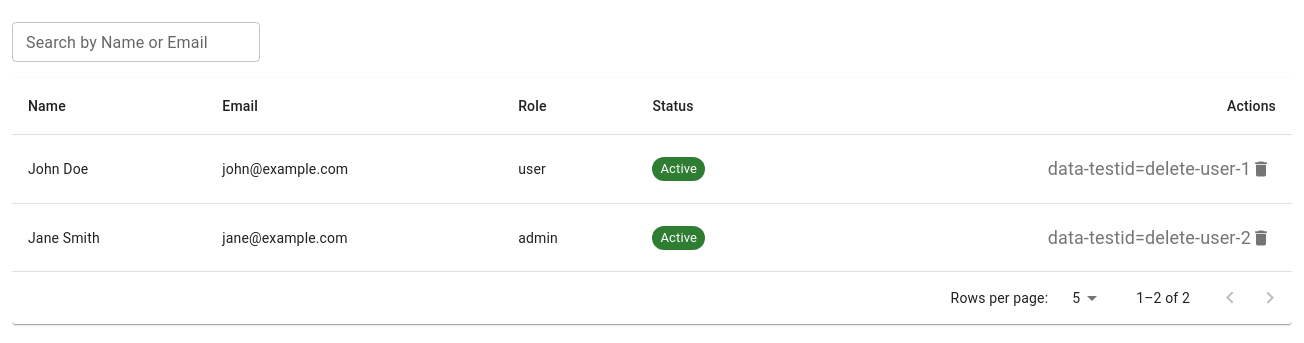
AccountManagerTable › filters users based on search input
The width and height of the screenshot is (1304, 343).
Expected: the text "John Doe" is shown, [12, 134, 206, 203]
Type "jane" into the field labelled "Search by Name or Email" at (136, 42), box [12, 22, 260, 62]
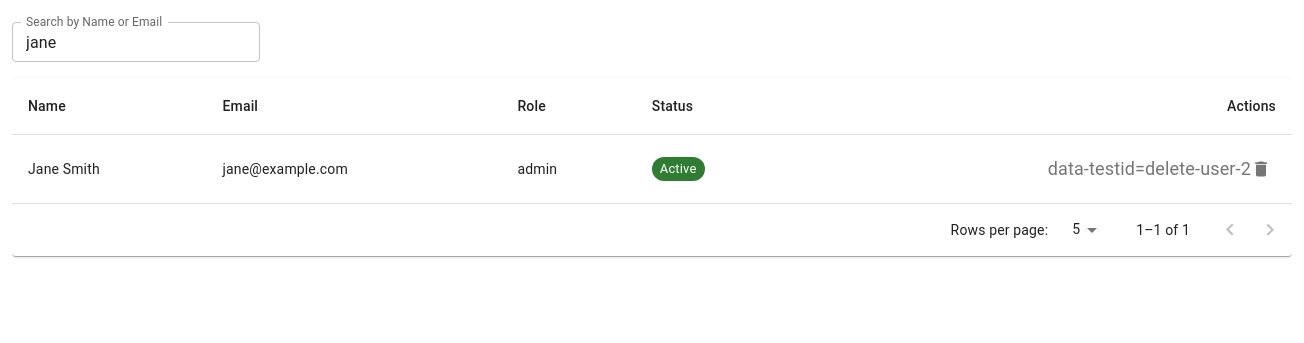
Expected: the text "Jane Smith" is shown, [12, 134, 206, 203]
Expected: the text "John Doe" is gone
